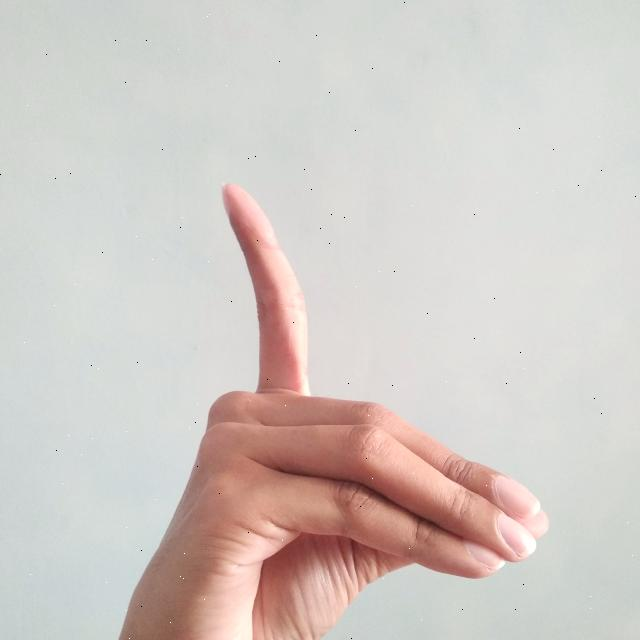D: (117, 181, 550, 640)
